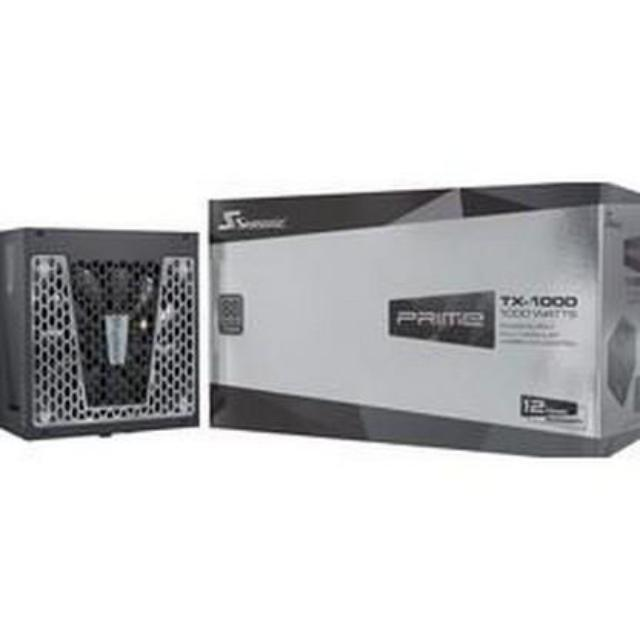PSU: (0, 182, 208, 458)
